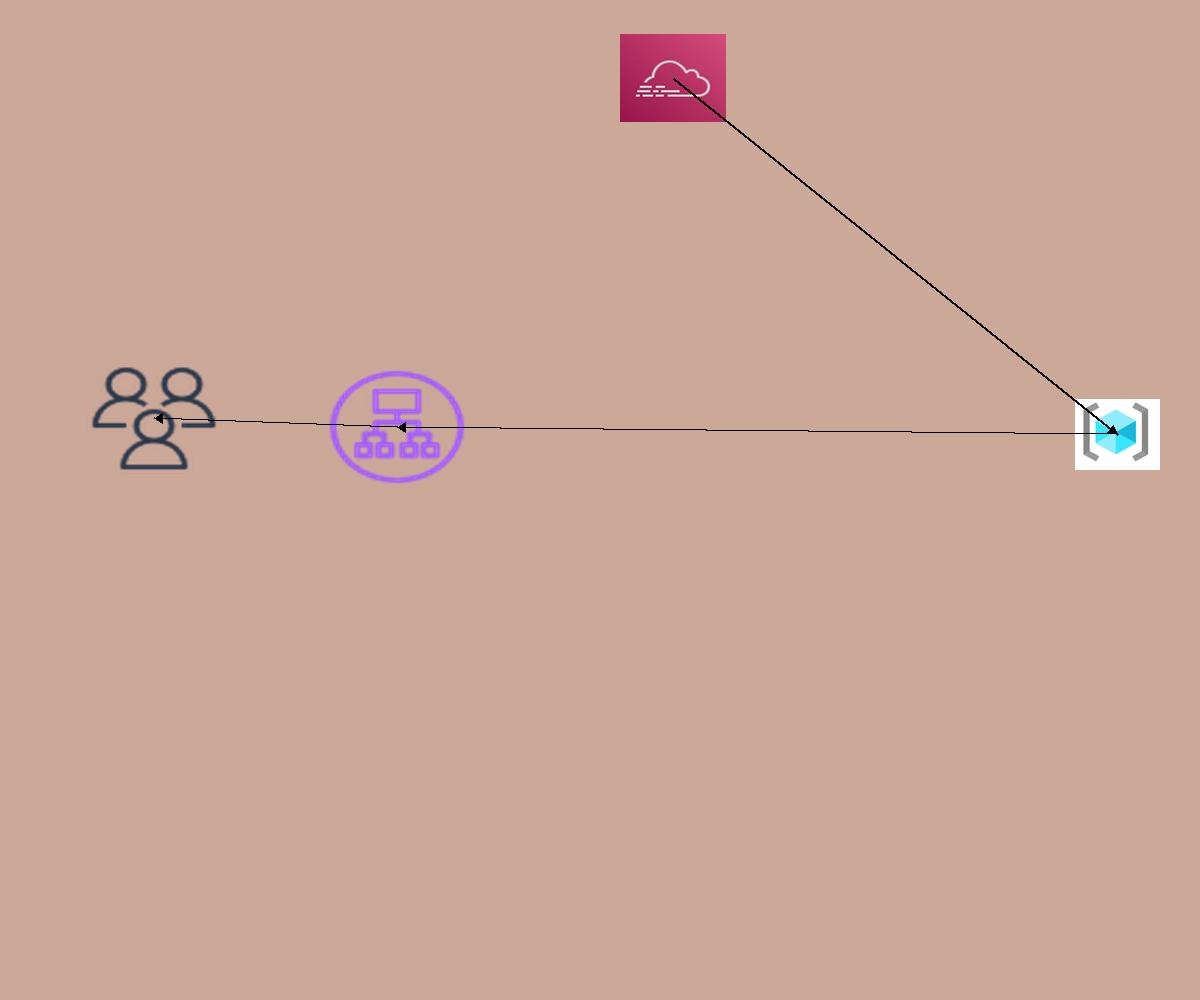AWS-CloudTrail: (620, 34, 726, 122)
AWS-Res_Elastic-Load-Balancing_Application-Load-Balancer: (324, 366, 470, 488)
AWS-Res_Users: (87, 363, 221, 474)
Azure_resource_group: (1075, 399, 1160, 470)
